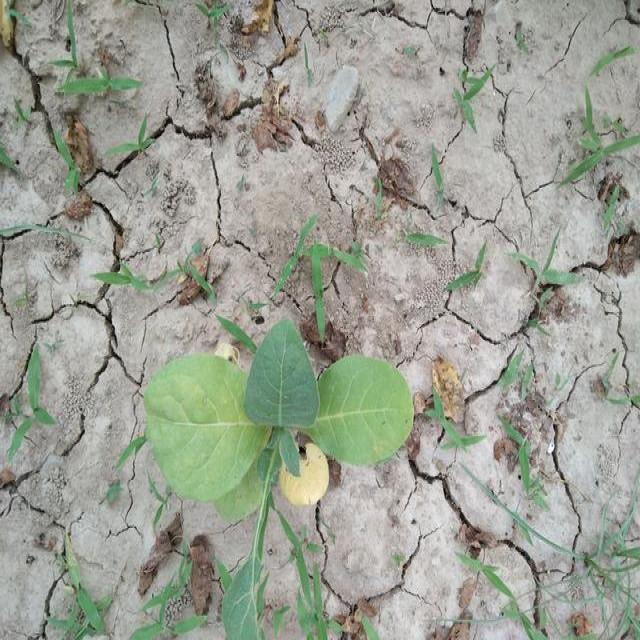crop: (138, 308, 446, 509)
